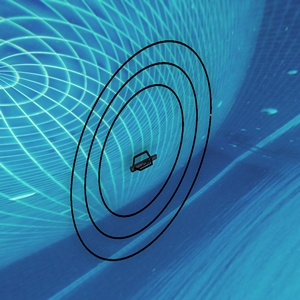circle: (41, 23, 246, 278)
